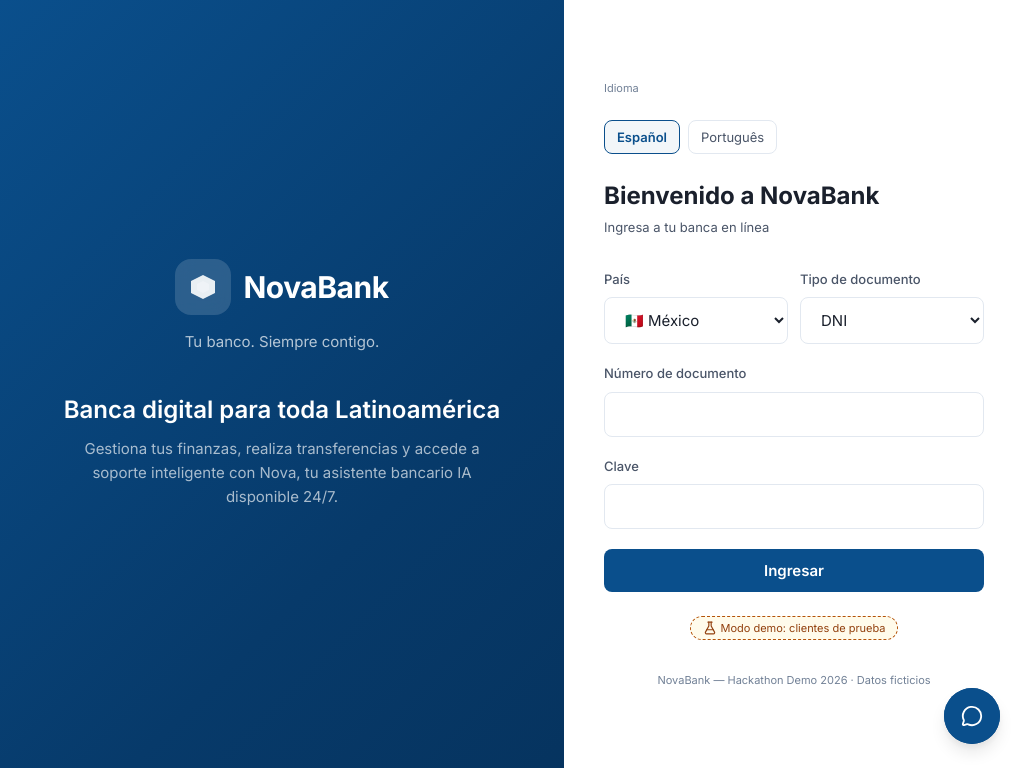
Test: Login: document + password, then the SMS code › shows one message for wrong credentials
Select "🇨🇴 Colombia" in the dropdown labelled "País": (696,320) [604,297,788,344]
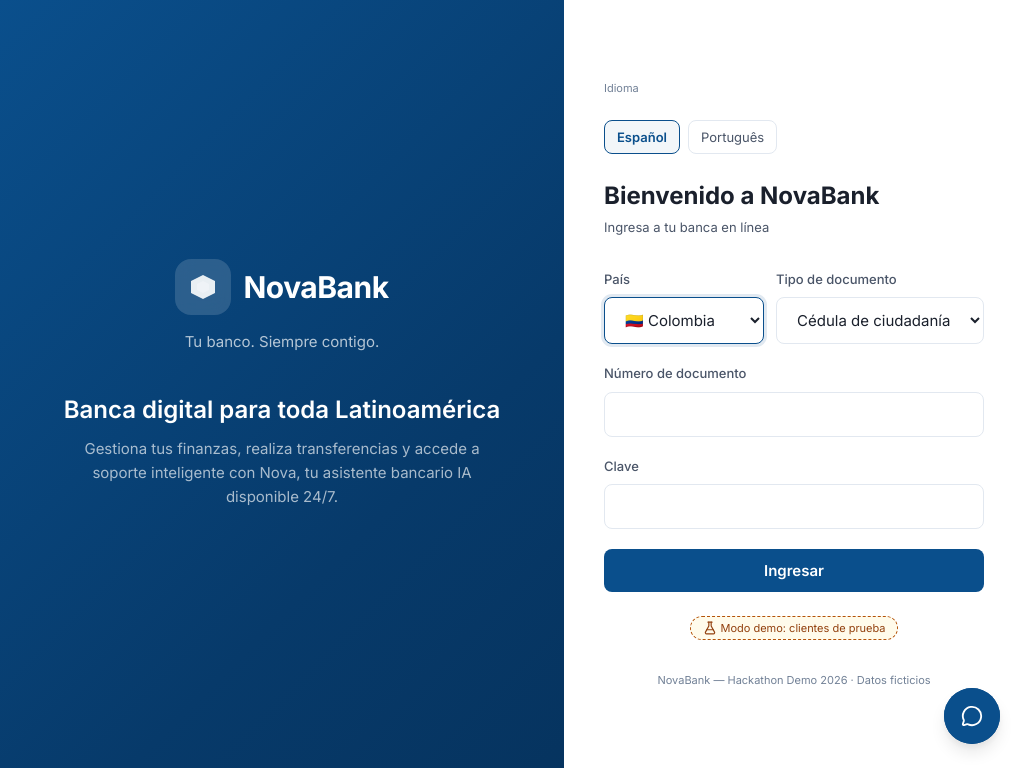
Select "Pasaporte" in the dropdown labelled "Tipo de documento": (880,320) [776,297,984,344]
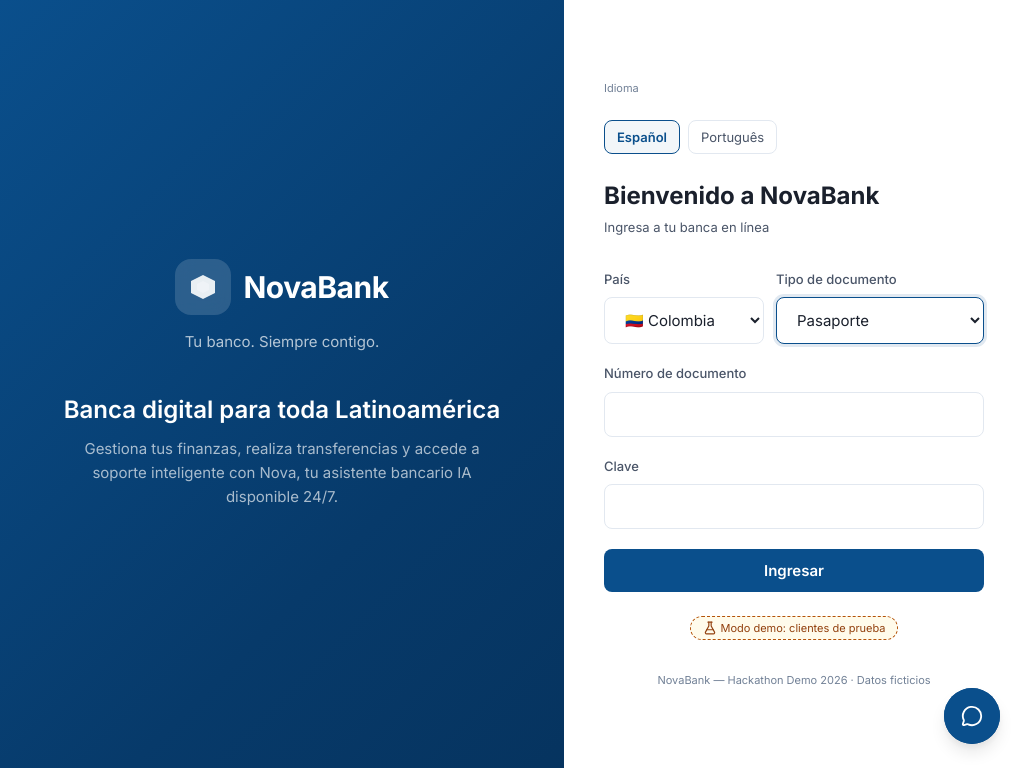
In the field labelled "Número de documento": (794,414) [604,392,984,436], type "AB12345"
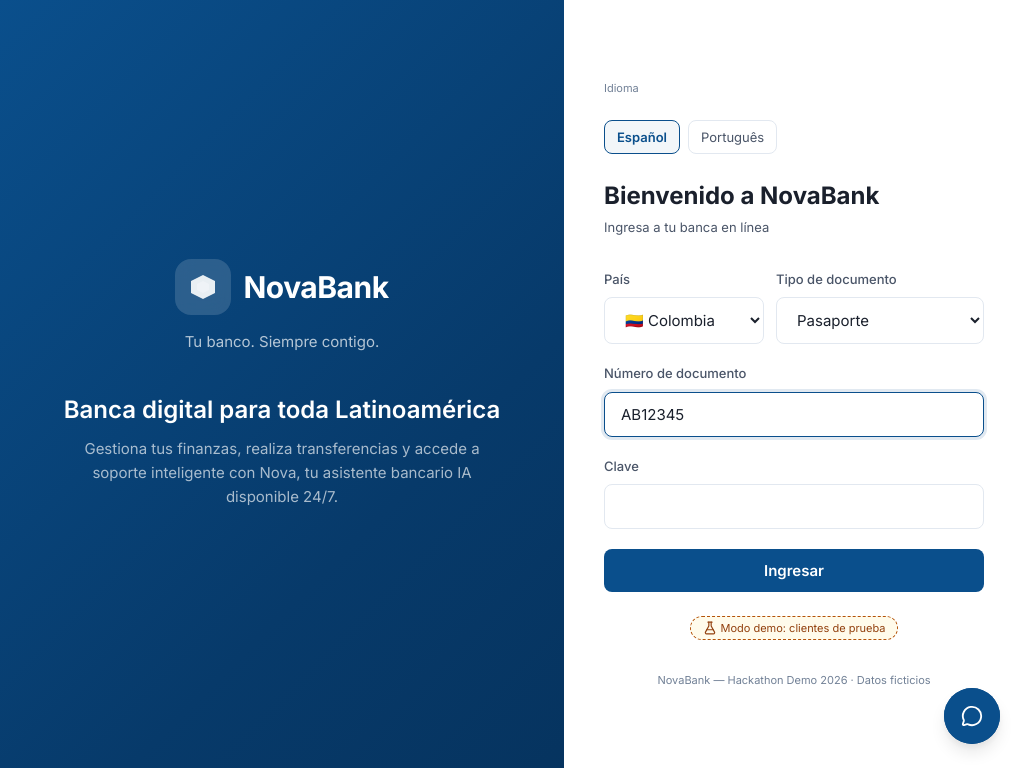
In the password field labelled "Clave": (794,506) [604,484,984,529], type "Nova2026"
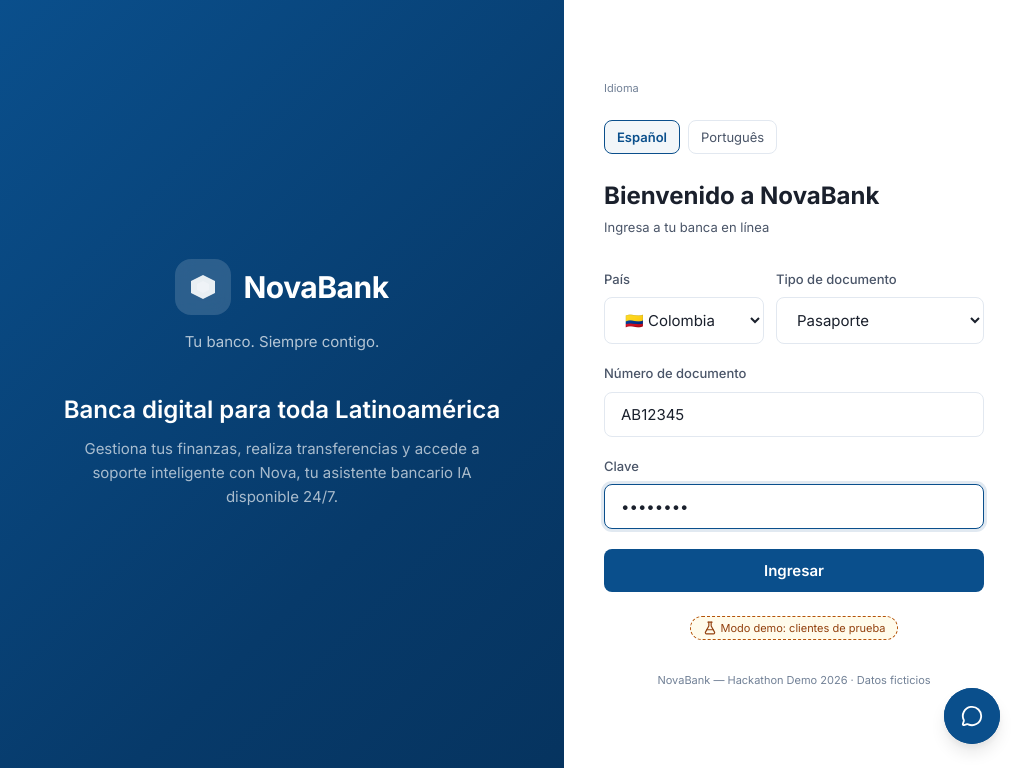
Click the button "Ingresar": (794,570) [604,549,984,592]
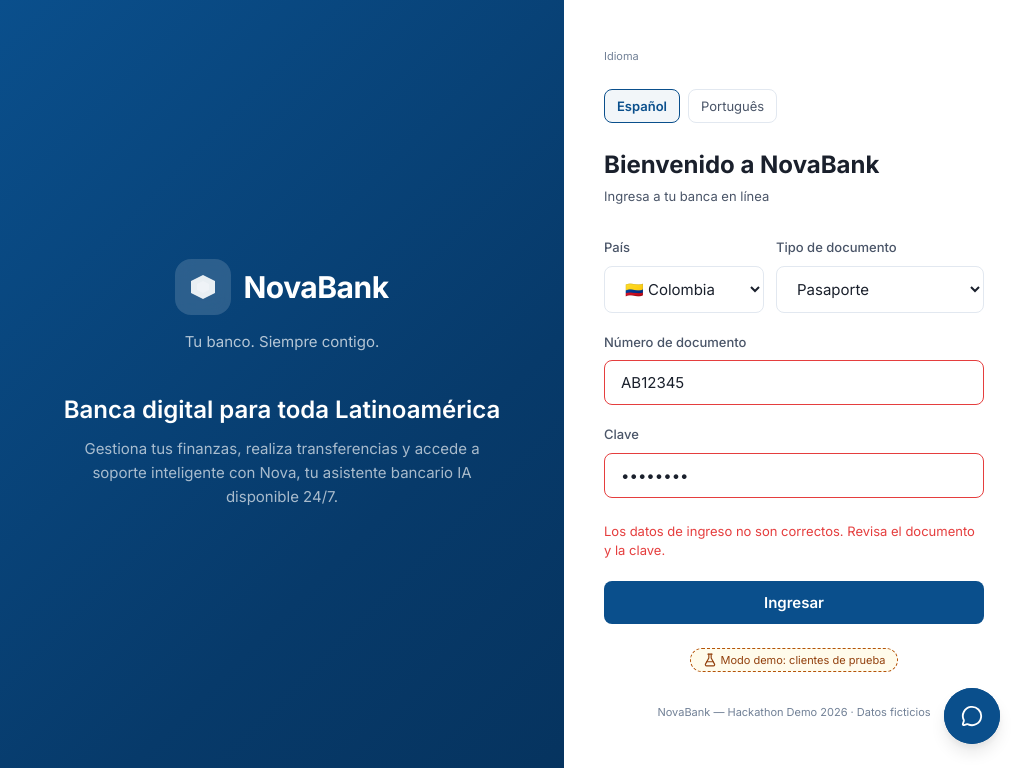
Expected: the message shows "no son correctos", [604,522,975,558]
